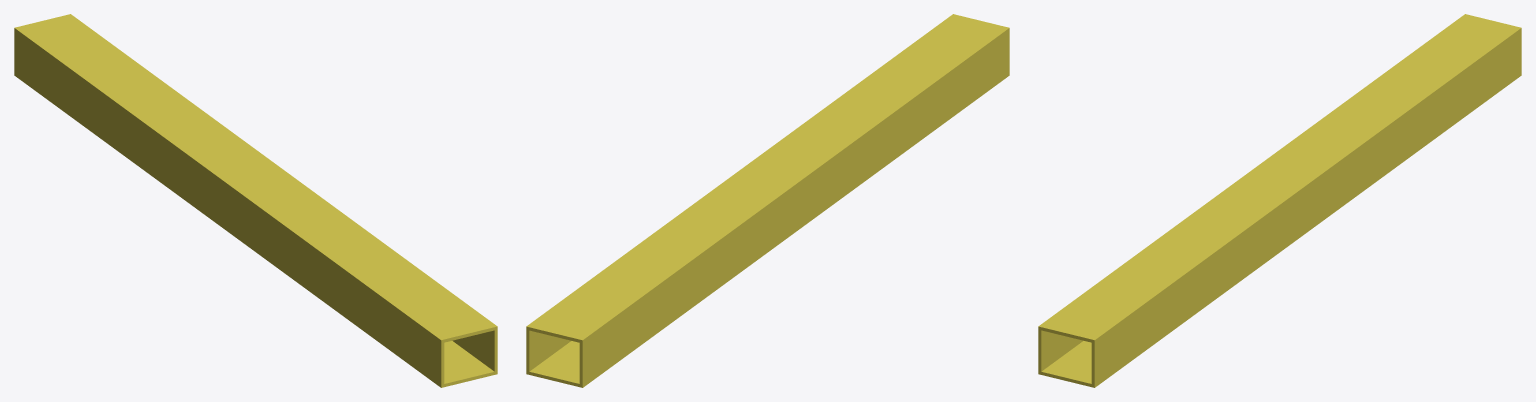
File: panduit-6ft-fiber-channel-runner (1).glb
The picture shows the model from 3 angles, left to right: view 1: azimuth 30°, elevation 25°; view 2: azimuth 150°, elevation 25°; view 3: azimuth 330°, elevation 25°; orthographic projection.
Visible parts, largest first — view 1: Mesh_Mesh_head_geo.001_lambert2SG.001; view 2: Mesh_Mesh_head_geo.001_lambert2SG.001; view 3: Mesh_Mesh_head_geo.001_lambert2SG.001.
Boxes of the visible parts, left/top/right/bottom form: Mesh_Mesh_head_geo.001_lambert2SG.001: left=14, top=14, right=497, bottom=387; Mesh_Mesh_head_geo.001_lambert2SG.001: left=526, top=14, right=1009, bottom=387; Mesh_Mesh_head_geo.001_lambert2SG.001: left=1038, top=14, right=1521, bottom=387.
Bounding box in the file's own units: 13.97 × 11.28 × 183.
